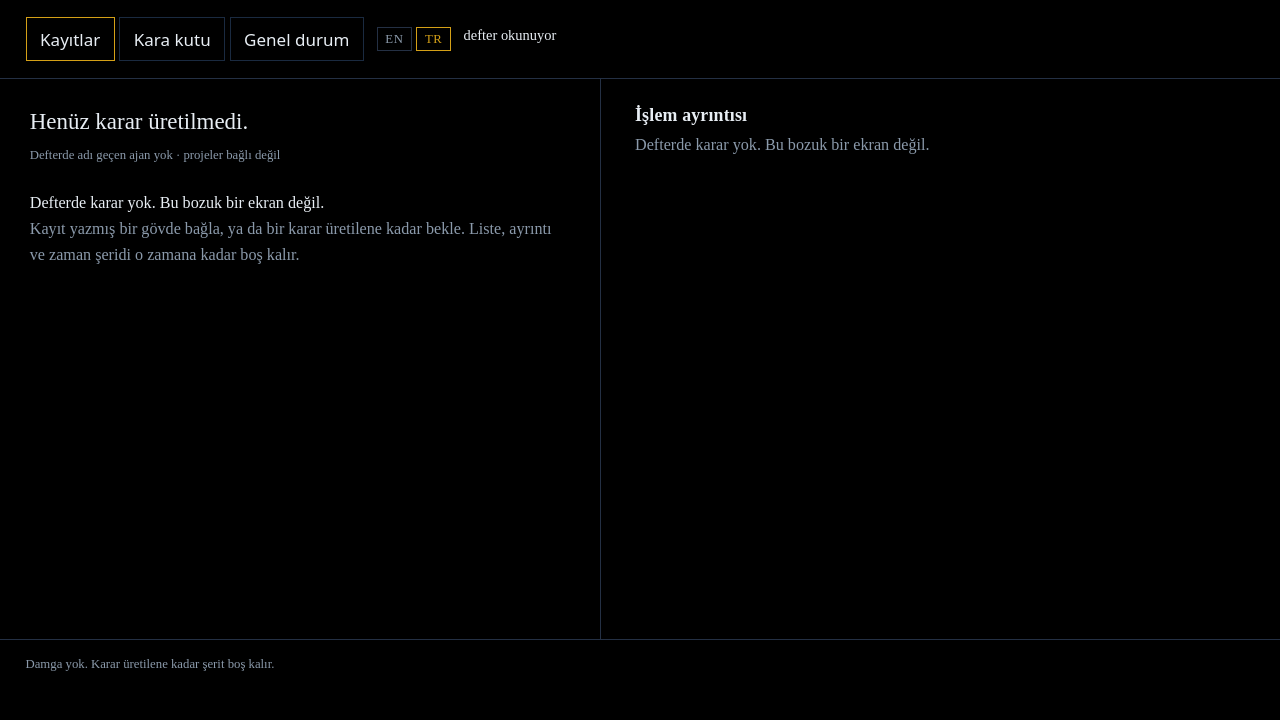
Test case: durum ekranı bağlı ürünleri söyler › bağlı çocuğun önekini, taşımasını ve araç sayısını gösterir
Click the tab "Genel durum".
click(297, 39)  # box [230,17,364,61]
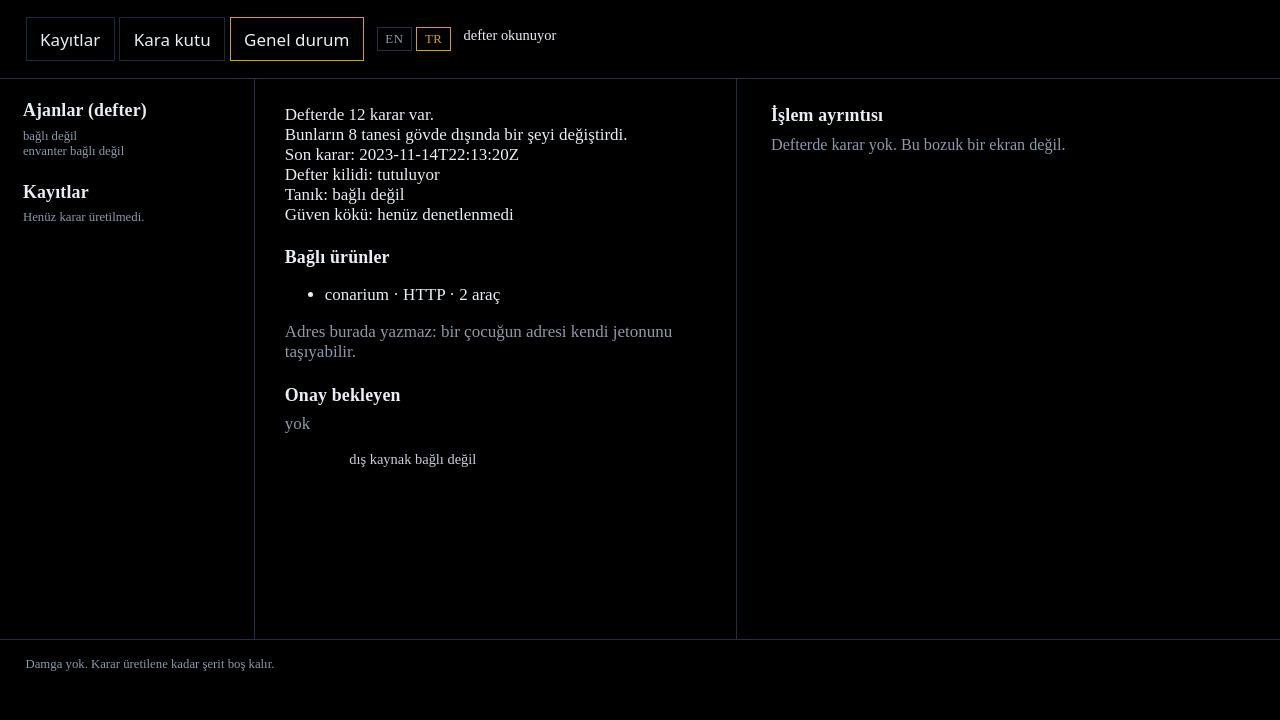
Now the text "conarium" is shown, box [325,285,500,304]
Now the text "HTTP" is shown, box [325,285,500,304]
Now the text "2" is shown, box [285,104,434,124]
